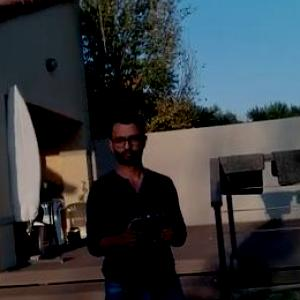follow: (90, 104, 203, 299)
